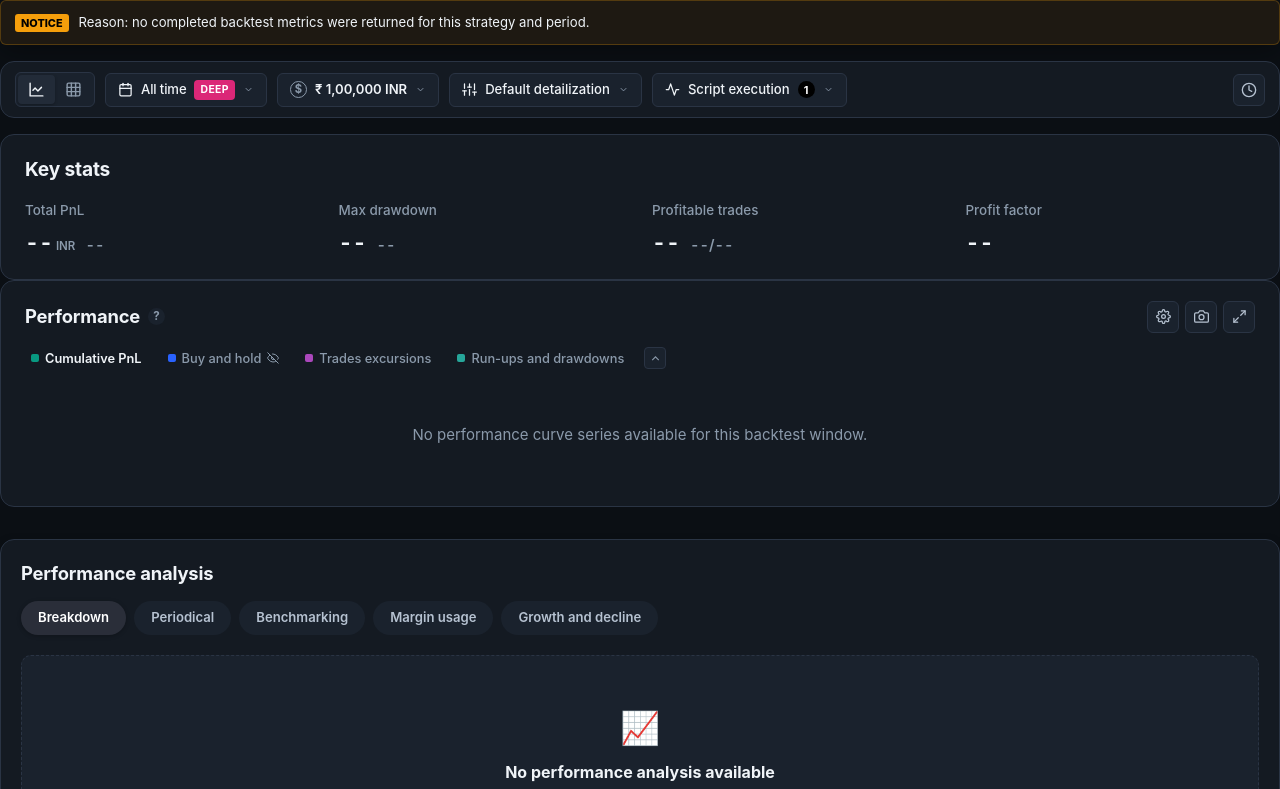
Test case: BacktestAnalyticsDashboard › opens configuration modal upon clicking info/config icon button
This screenshot has width=1280, height=789.
Step 1. Click the button named "Backtest configuration details" → coordinates (1249, 90), box [1233,74,1265,106]
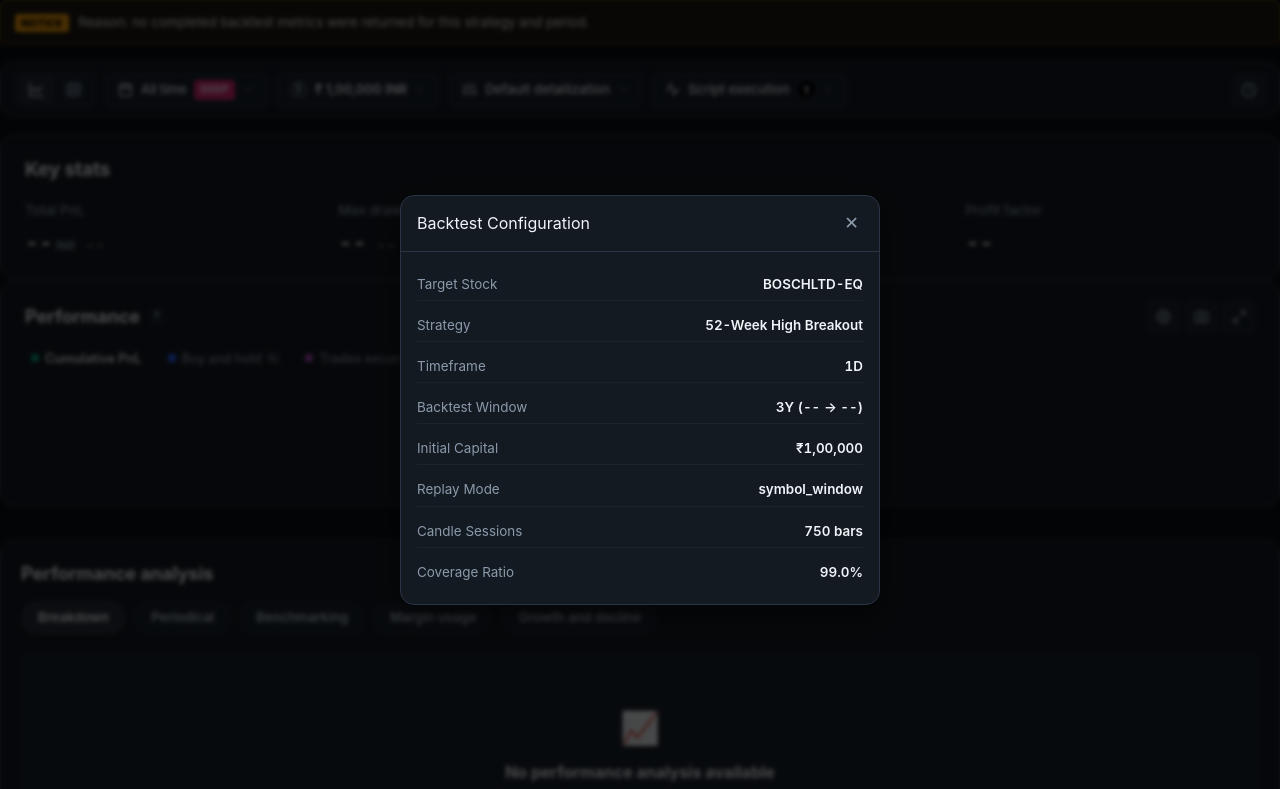
Expected: the heading "Backtest Configuration" is shown, [417,211,590,235]
Expected: the text "BOSCHLTD-EQ" is shown, [763,274,863,294]
Expected: the text "750 bars" is shown, [804,520,863,541]
Close modal
Step 2. Click the button named "Close configuration modal" → coordinates (852, 223), box [840,210,863,237]
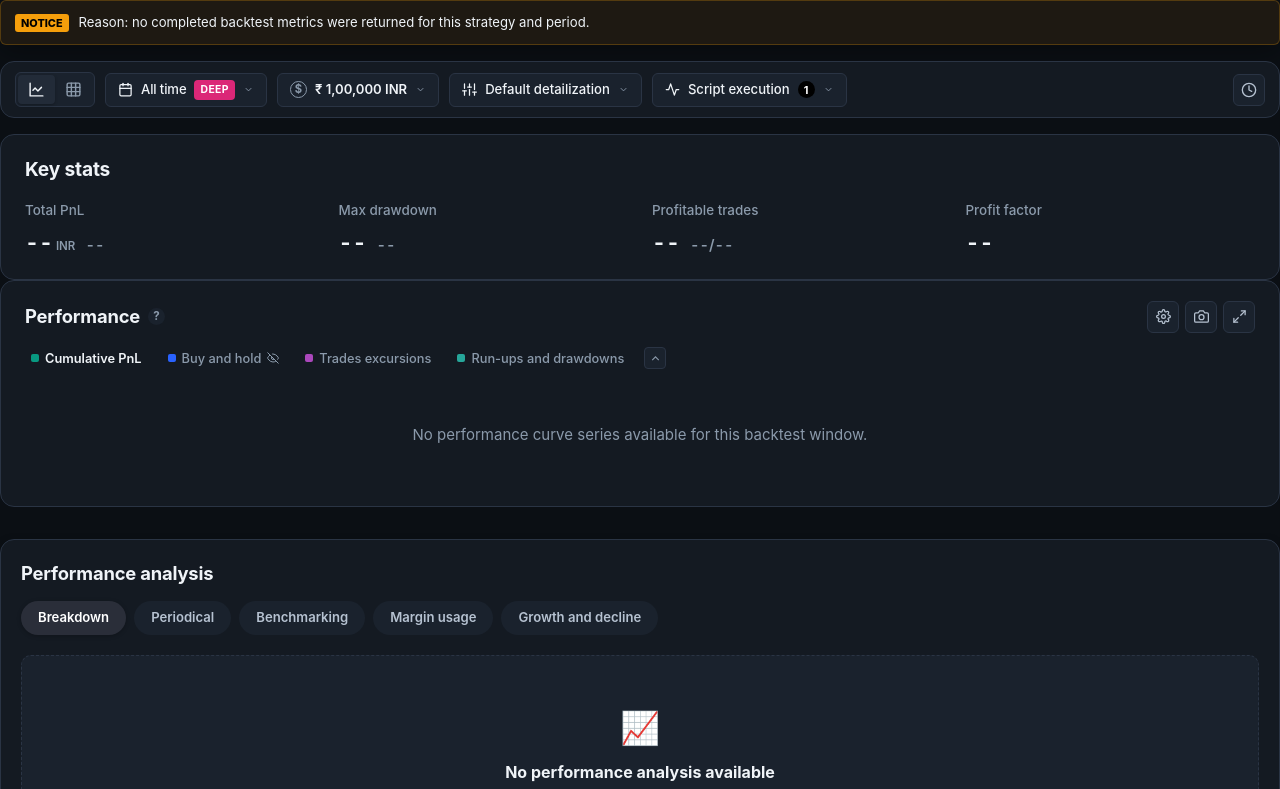
Expected: the heading "Backtest Configuration" is gone
